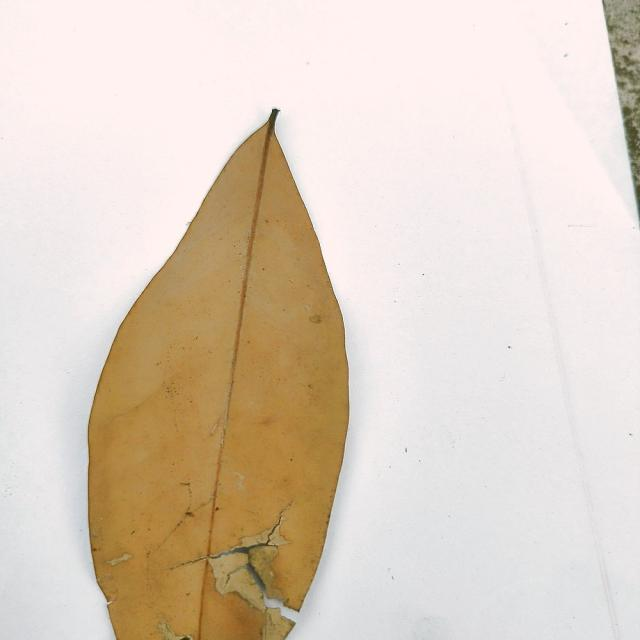Dry_Leaf-Lychee: (86, 112, 349, 639)
